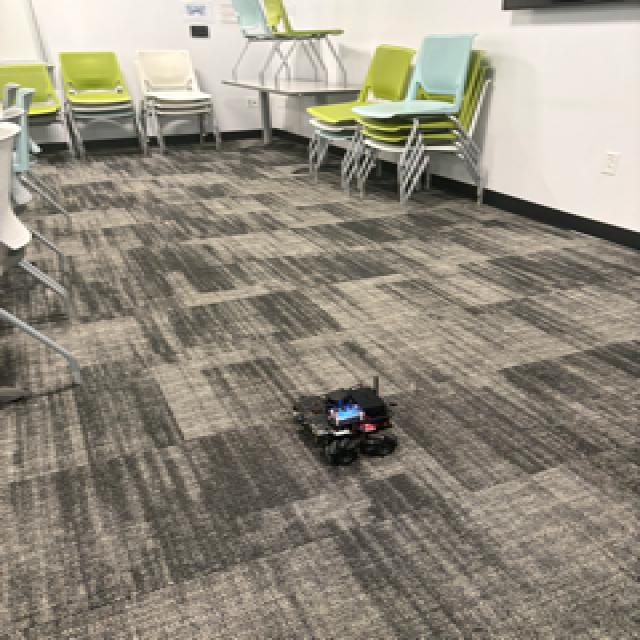ArduinoCar3: (292, 376, 406, 462)
